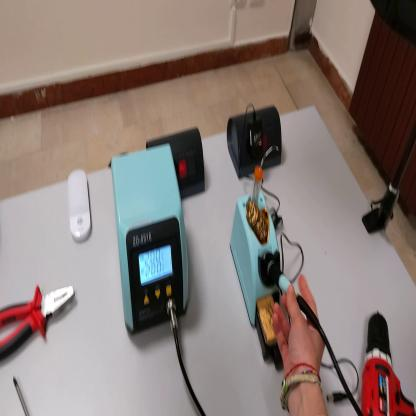electric screwdriver: (364, 310, 416, 414)
hand: (271, 277, 325, 379)
pliers: (3, 278, 77, 369)
screwdriver-: (13, 378, 30, 415)
socket: (145, 117, 211, 197), (226, 101, 288, 175)
welder base: (230, 161, 298, 360)
welder probe tip: (266, 253, 318, 328)
welder station: (109, 140, 194, 342)
